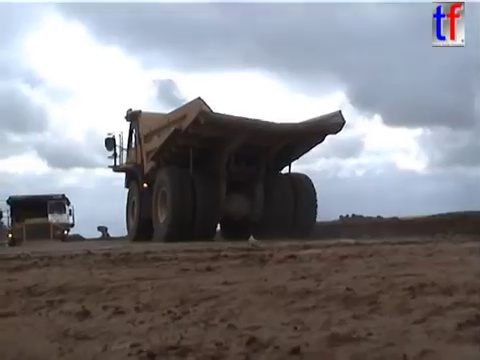truck: (101, 94, 349, 246), (1, 191, 77, 260)
